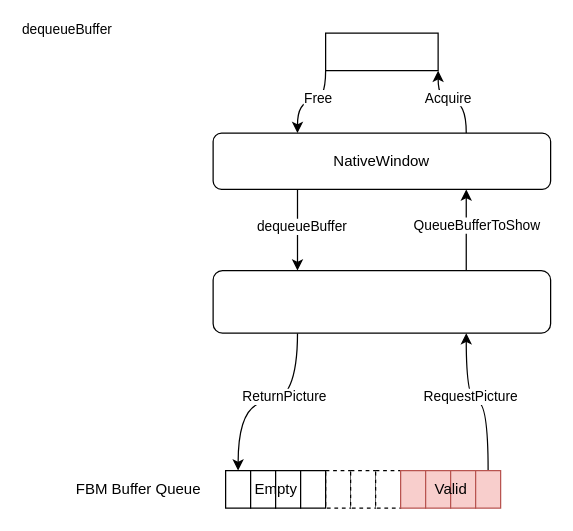
Some shapes in this 573 by 531 pixel diagram are drawn without their labels. The centre of each missing label's shape, as x and y in pixels:
"中间件" goes at pixel 381 301.
"显示" goes at pixel 381 51.
